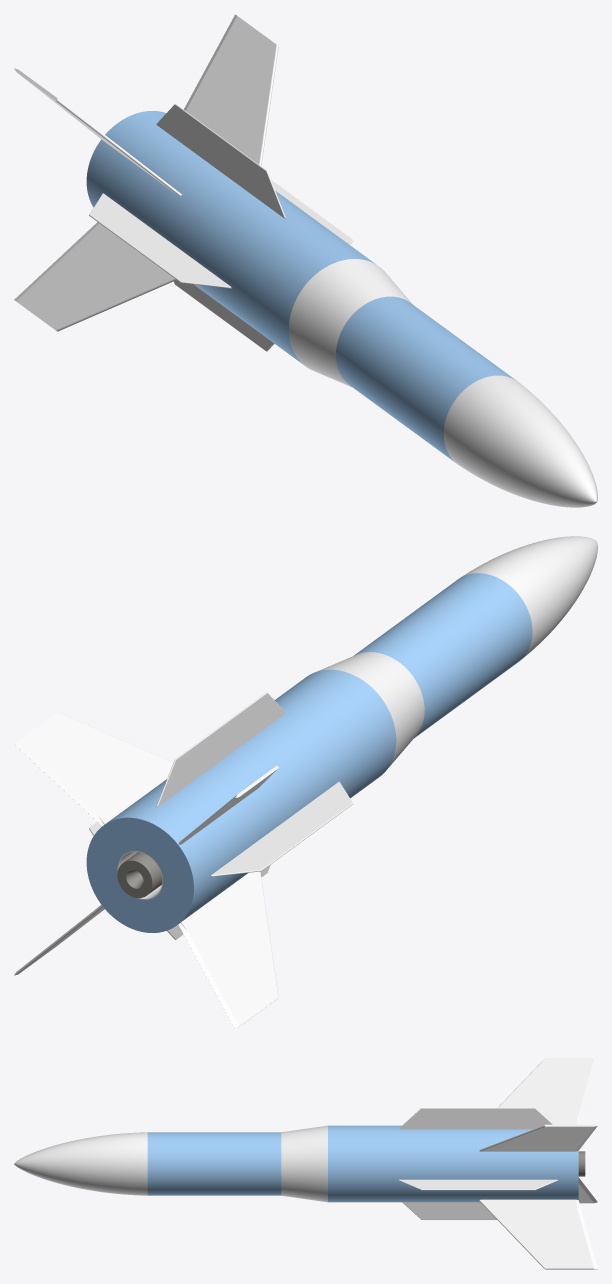
File: bharat.gltf
3 views of the same model, one above another, from view 1: azimuth 30°, elevation 25°; view 2: azimuth 150°, elevation 25°; view 3: azimuth 270°, elevation 25° (orthographic). The views are drawn at different scales.
Parts seen in each view (by area): view 1: motor_housing, fin_can, sat_section, nosecone, transition; view 2: motor_housing, fin_can, sat_section, lower_ring, nosecone, transition, motor; view 3: motor_housing, fin_can, sat_section, nosecone, transition.
Boxes of the visible parts, x1,y1,x2,y2 form: motor_housing: (14, 14, 353, 351); fin_can: (86, 111, 375, 364); sat_section: (336, 296, 515, 461); nosecone: (443, 375, 597, 507); transition: (289, 259, 412, 387); motor_housing: (14, 692, 353, 1029); fin_can: (86, 669, 396, 932); sat_section: (354, 573, 532, 738); lower_ring: (87, 818, 192, 931); nosecone: (462, 536, 597, 658); transition: (317, 652, 424, 767); motor: (117, 852, 162, 898); motor_housing: (399, 1058, 597, 1269); fin_can: (328, 1125, 578, 1202); sat_section: (147, 1132, 281, 1195); nosecone: (14, 1132, 147, 1195); transition: (281, 1125, 327, 1202).
Bounding box in the file's own units: 0.478 × 0.478 × 1.75.
